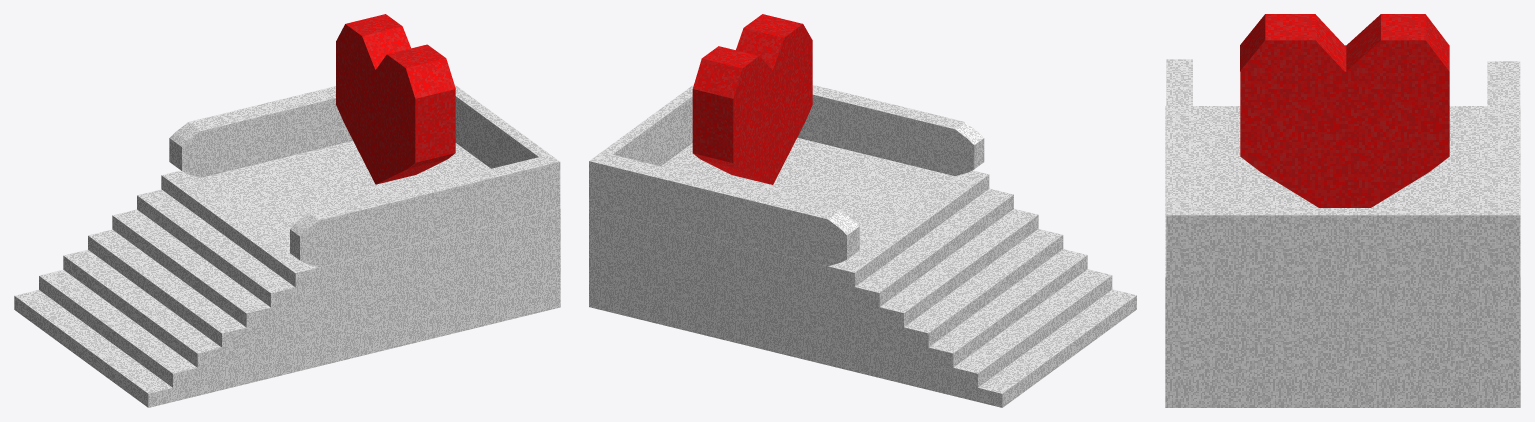
Rendered from BLOCKYGON_HEART-STAIRS .fbx.
The picture shows the model from 3 angles, left to right: view 1: azimuth 30°, elevation 25°; view 2: azimuth 150°, elevation 25°; view 3: azimuth 270°, elevation 25°; orthographic projection. The views are drawn at different scales.
Parts seen in each view (by area): view 1: BLOCKYGON_HEART_STAIRS__2_; view 2: BLOCKYGON_HEART_STAIRS__2_; view 3: BLOCKYGON_HEART_STAIRS__2_.
Boxes of the visible parts, x1,y1,x2,y2 form: BLOCKYGON_HEART_STAIRS__2_: (14, 14, 560, 407); BLOCKYGON_HEART_STAIRS__2_: (589, 14, 1136, 407); BLOCKYGON_HEART_STAIRS__2_: (1165, 14, 1520, 407).
Bounding box in the file's own units: 612 × 341 × 345.
